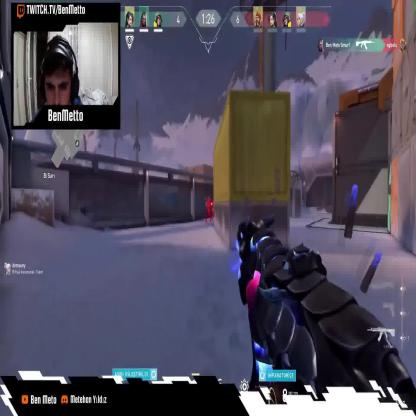enemy: (204, 196, 212, 222), (210, 195, 216, 223)
enemy_head: (207, 197, 210, 201)
